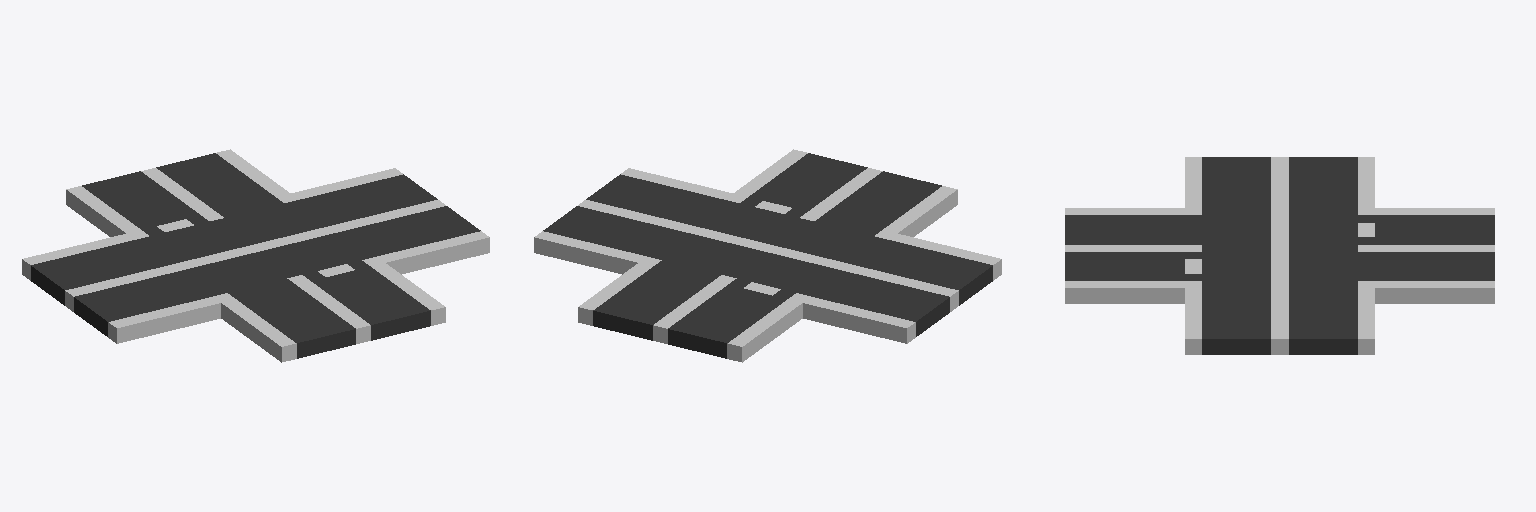
3 renders of one model, left to right at view 1: azimuth 30°, elevation 25°; view 2: azimuth 150°, elevation 25°; view 3: azimuth 270°, elevation 25°, orthographic.
Parts seen in each view (by area): view 1: object 1; view 2: object 1; view 3: object 1.
Part boxes in pixels (left/top/right/bottom): object 1: left=22, top=149, right=489, bottom=362; object 1: left=534, top=149, right=1001, bottom=362; object 1: left=1065, top=157, right=1494, bottom=354.
Bounding box in the file's own units: 5 × 0.2 × 5.
1 materials, 1 textured.